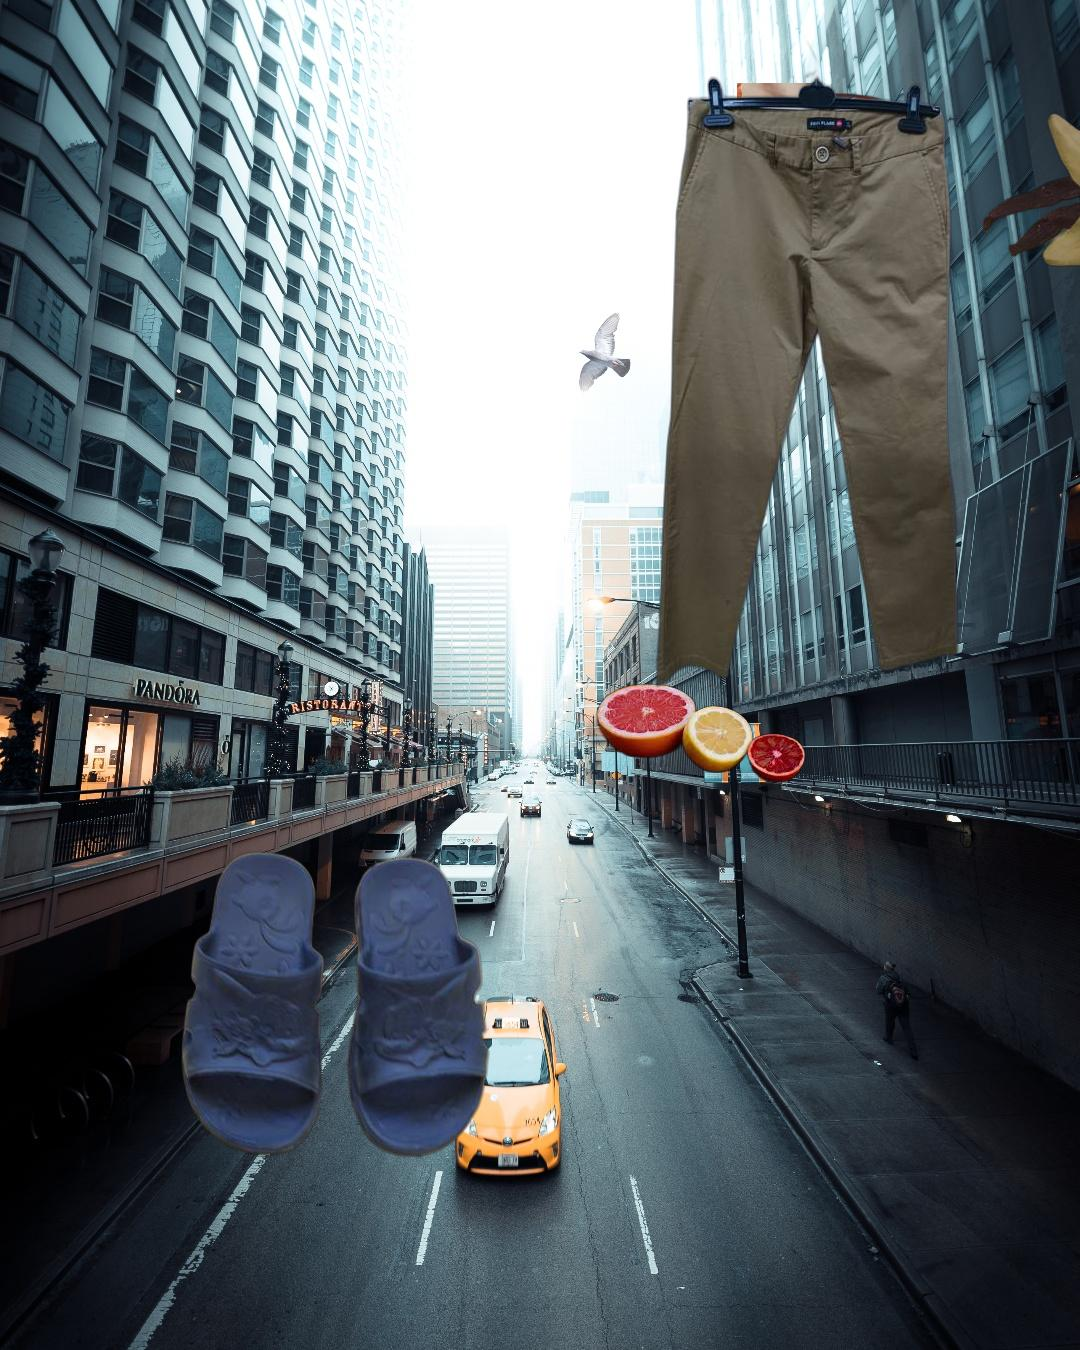biological: (584, 636, 851, 804)
clothes: (652, 35, 961, 693)
shoes: (179, 755, 492, 1289)
trashbox-cardboard: (737, 83, 1080, 323)
